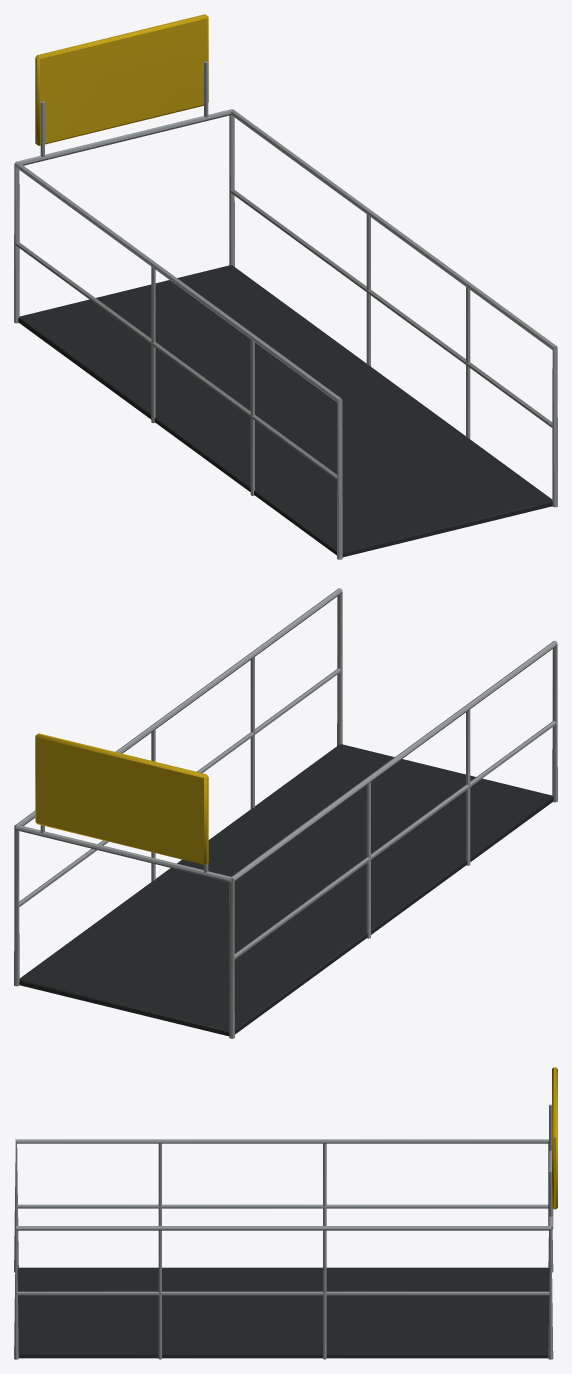
File: mkt-cart-corral.glb
3 renders of one model, top to bottom at view 1: azimuth 30°, elevation 25°; view 2: azimuth 150°, elevation 25°; view 3: azimuth 270°, elevation 25°, orthographic. The views are drawn at different scales.
Parts seen in each view (by area): view 1: rails__chrome, sign__lacquer; view 2: rails__chrome, sign__lacquer; view 3: rails__chrome, sign__lacquer.
Part boxes in pixels (box(x1,y1,x2,y2)): rails__chrome: box(14, 61, 557, 559); sign__lacquer: box(35, 14, 208, 145); rails__chrome: box(14, 588, 557, 1038); sign__lacquer: box(35, 733, 208, 864); rails__chrome: box(14, 1104, 553, 1359); sign__lacquer: box(552, 1067, 557, 1209).
Size of the model in its own units: 1.02 by 1.15 by 2.65.
